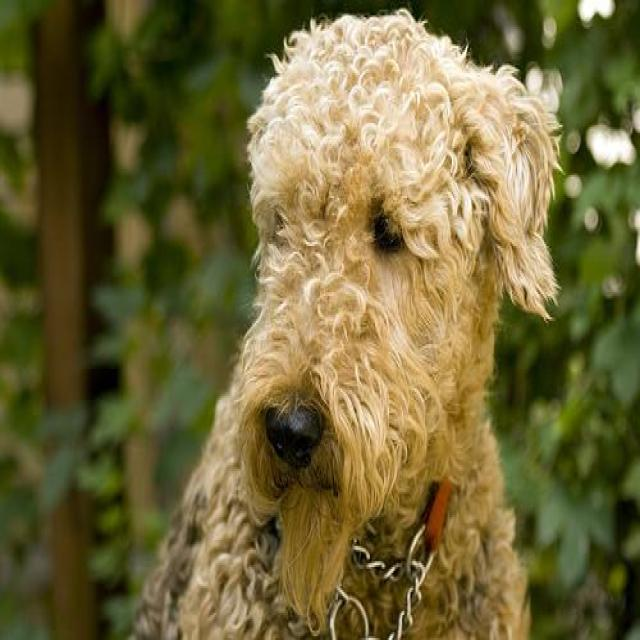airedale: (125, 8, 566, 638)
